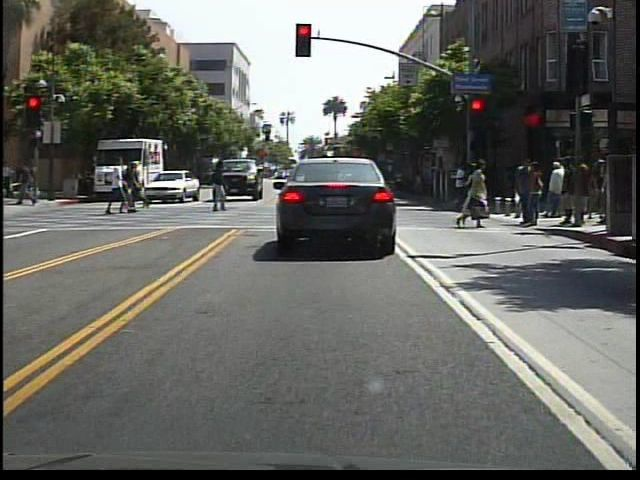person: (313, 126, 351, 239), (455, 160, 498, 232), (207, 159, 235, 216), (548, 152, 570, 224), (104, 156, 128, 220), (13, 161, 42, 208), (127, 159, 148, 213), (123, 163, 142, 215)
